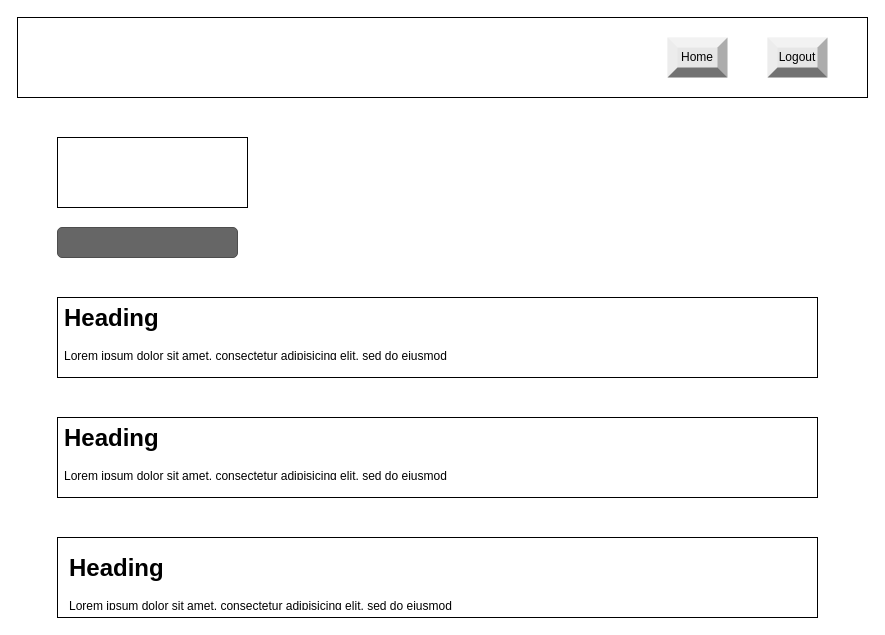
Image size: 885x635. Some labels were removed from this diagram. The box of each missing label's shape, as (x1, y1, x2, y2) in pixels:
Ask a Question: (56, 226, 238, 258)
Given Coffee Topic: (56, 136, 248, 208)
Navigation Bar: (16, 16, 868, 98)
